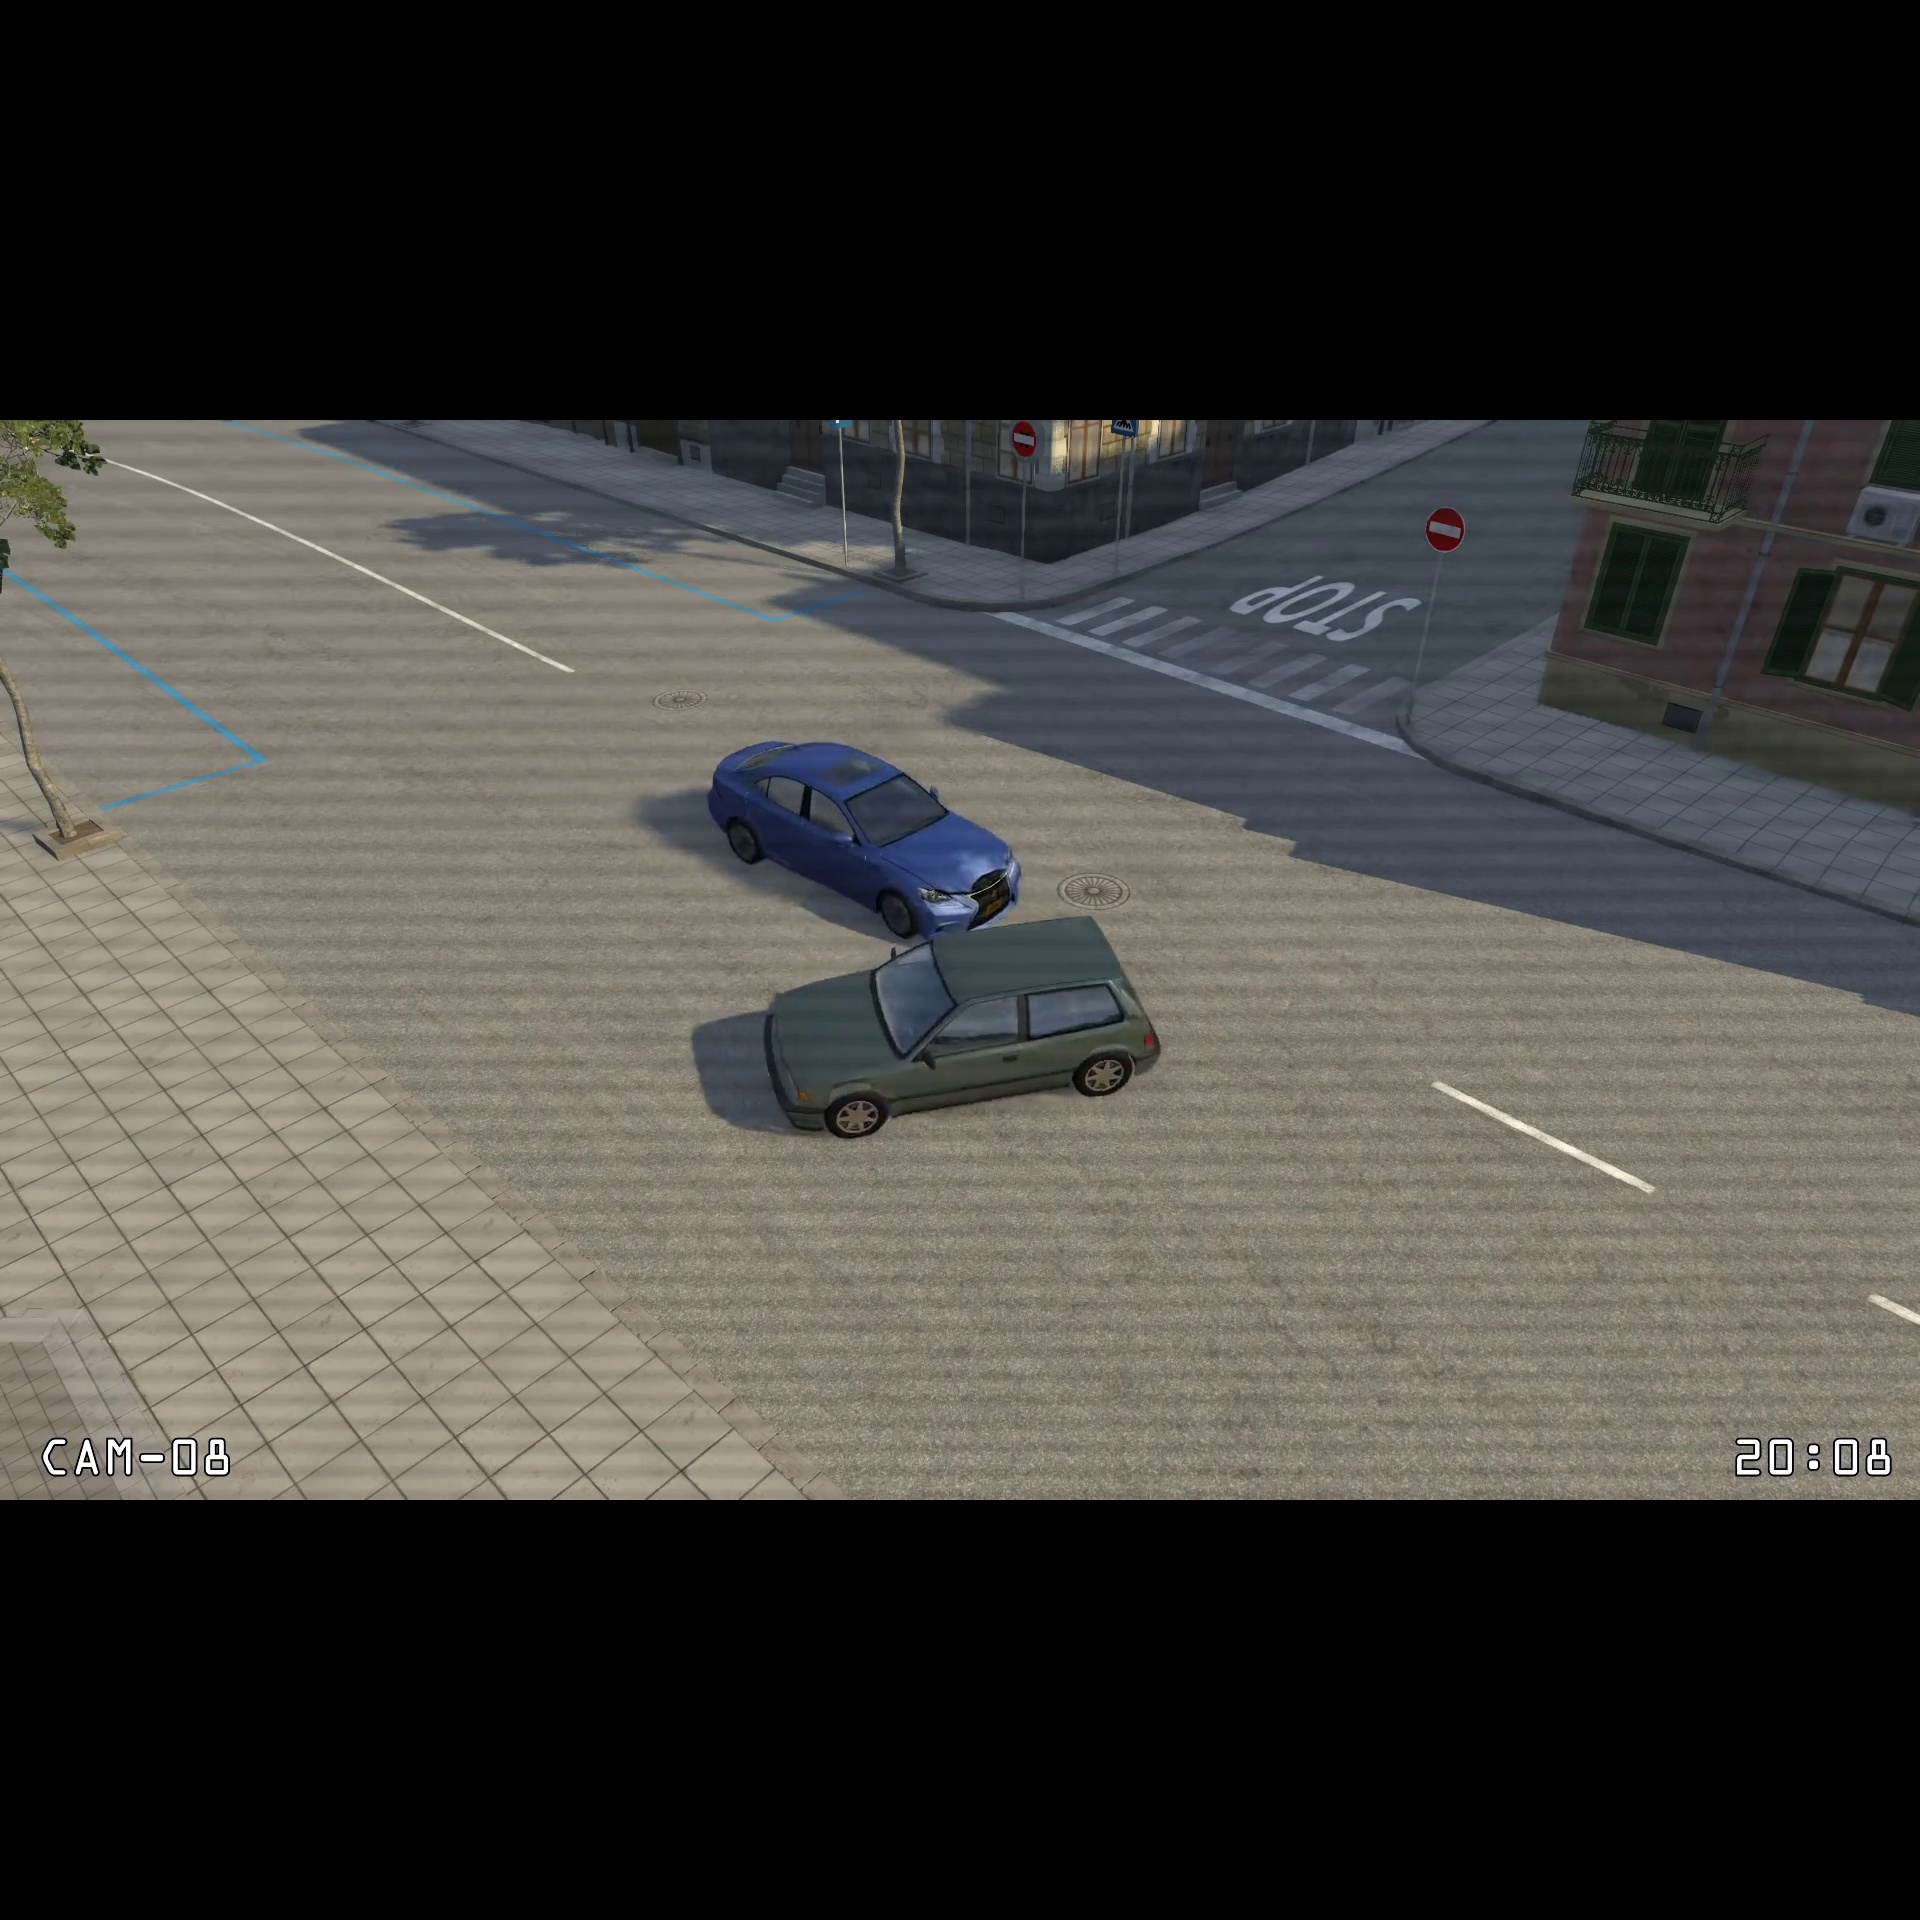vehicle: (753, 907, 1166, 1150), (703, 737, 1027, 948)
